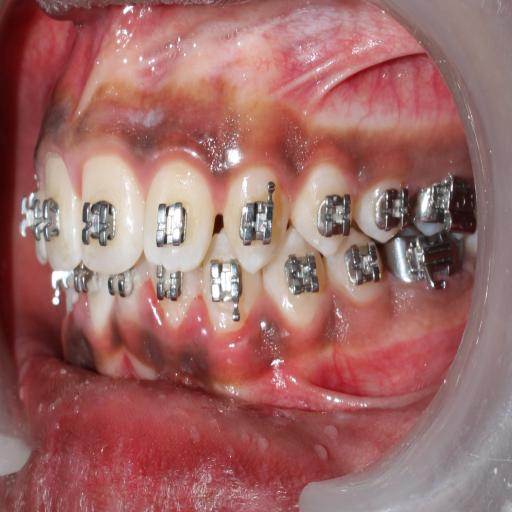correct_brace: (292, 163, 356, 263), (236, 196, 278, 252), (150, 196, 190, 252), (78, 196, 116, 250)
incorrect_brace: (143, 162, 215, 271), (315, 192, 355, 246)
